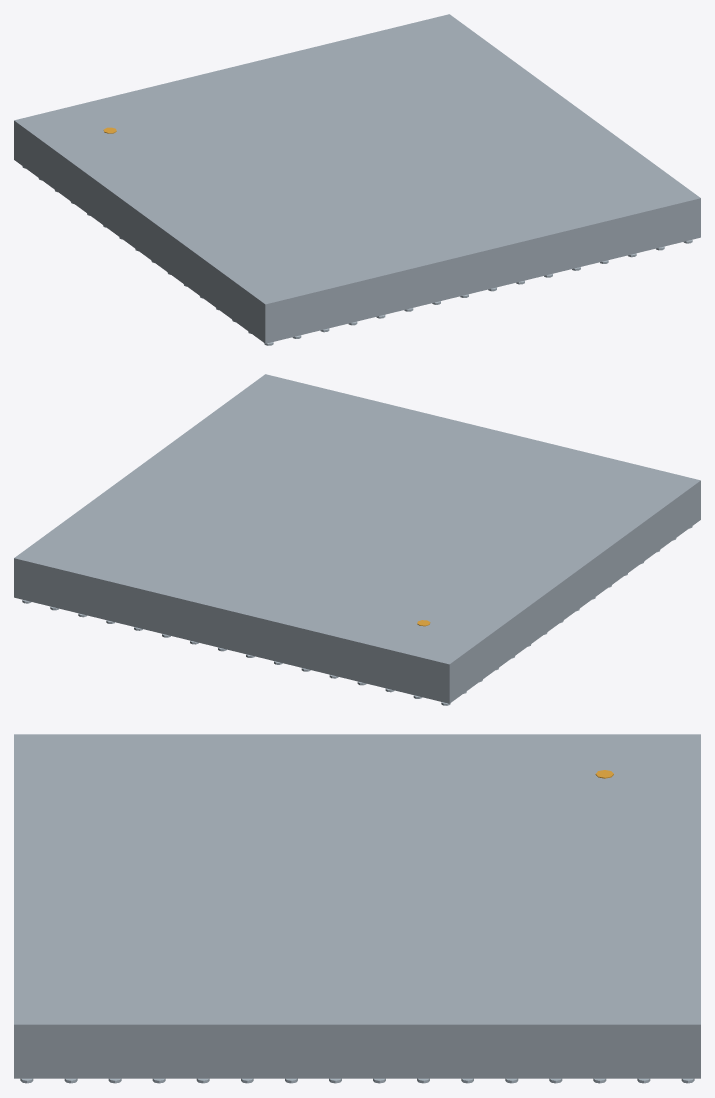
3 renders of one model, top to bottom at view 1: azimuth 30°, elevation 25°; view 2: azimuth 150°, elevation 25°; view 3: azimuth 270°, elevation 25°, orthographic. The views are drawn at different scales.
Parts seen in each view (by area): view 1: 001_L106_U1_000; view 2: 001_L106_U1_000; view 3: 001_L106_U1_000.
Boxes of the visible parts, x1=… form: 001_L106_U1_000: x1=14, y1=14, x2=700, y2=343; 001_L106_U1_000: x1=14, y1=374, x2=700, y2=703; 001_L106_U1_000: x1=14, y1=734, x2=700, y2=1078.
Size of the model in its own units: 0.037 by 0.037 by 0.00373.
